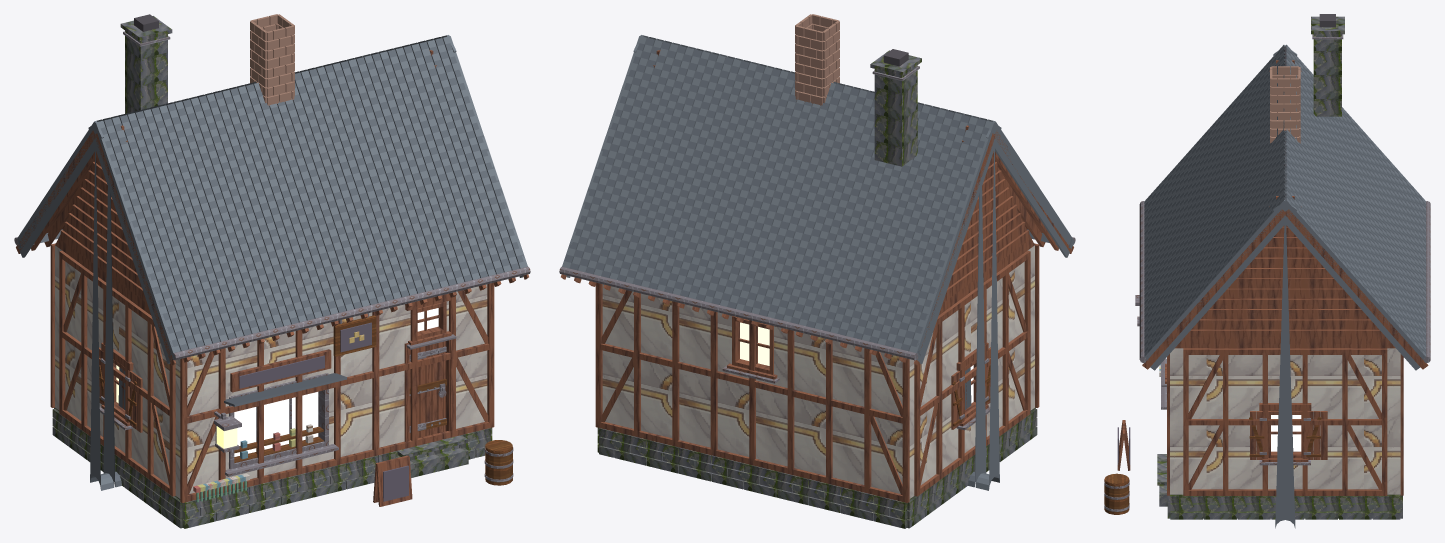
Rendered from juvelerare.glb.
3 views of the same model, side by side, from view 1: azimuth 30°, elevation 25°; view 2: azimuth 150°, elevation 25°; view 3: azimuth 270°, elevation 25° (orthographic). The views are drawn at different scales.
Parts seen in each view (by area): view 1: juvelerare_takpanna_ljus, juvelerare_takpanna_mörk, juvelerare_mörkt_virke, juvelerare_puts, juvelerare_sockel, juvelerare_järn, juvelerare_tegel, juvelerare_ljust_virke, juvelerare_mur, juvelerare_fönster, juvelerare_skyltfält, juvelerare_sten; view 2: juvelerare_takpanna_ljus, juvelerare_takpanna_mörk, juvelerare_puts, juvelerare_mörkt_virke, juvelerare_sockel, juvelerare_mur, juvelerare_järn, juvelerare_tegel, juvelerare_fönster; view 3: juvelerare_takpanna_ljus, juvelerare_mörkt_virke, juvelerare_takpanna_mörk, juvelerare_puts, juvelerare_sockel, juvelerare_järn, juvelerare_mur, juvelerare_tegel, juvelerare_ljust_virke, juvelerare_sten, juvelerare_fönster.
Part boxes in pixels (bbox=[...]): juvelerare_takpanna_ljus: bbox=[15, 35, 527, 490]; juvelerare_takpanna_mörk: bbox=[18, 37, 524, 487]; juvelerare_mörkt_virke: bbox=[16, 50, 528, 506]; juvelerare_puts: bbox=[55, 245, 487, 498]; juvelerare_sockel: bbox=[52, 407, 492, 528]; juvelerare_järn: bbox=[14, 31, 530, 482]; juvelerare_tegel: bbox=[250, 14, 294, 105]; juvelerare_ljust_virke: bbox=[99, 315, 512, 485]; juvelerare_mur: bbox=[125, 30, 167, 113]; juvelerare_fönster: bbox=[116, 308, 438, 456]; juvelerare_skyltfält: bbox=[239, 322, 408, 501]; juvelerare_sten: bbox=[120, 16, 468, 477]; juvelerare_takpanna_ljus: bbox=[562, 35, 1074, 490]; juvelerare_takpanna_mörk: bbox=[564, 37, 1071, 487]; juvelerare_puts: bbox=[602, 245, 1034, 498]; juvelerare_mörkt_virke: bbox=[561, 50, 1073, 502]; juvelerare_sockel: bbox=[597, 407, 1037, 528]; juvelerare_mur: bbox=[874, 65, 917, 166]; juvelerare_järn: bbox=[559, 66, 1075, 430]; juvelerare_tegel: bbox=[795, 14, 839, 105]; juvelerare_fönster: bbox=[740, 322, 973, 403]; juvelerare_takpanna_ljus: bbox=[1142, 44, 1428, 528]; juvelerare_mörkt_virke: bbox=[1117, 60, 1428, 495]; juvelerare_takpanna_mörk: bbox=[1144, 48, 1425, 520]; juvelerare_puts: bbox=[1159, 348, 1400, 494]; juvelerare_sockel: bbox=[1167, 494, 1402, 519]; juvelerare_järn: bbox=[1104, 34, 1430, 511]; juvelerare_mur: bbox=[1313, 34, 1341, 116]; juvelerare_tegel: bbox=[1270, 66, 1300, 143]; juvelerare_ljust_virke: bbox=[1104, 417, 1321, 514]; juvelerare_sten: bbox=[1157, 16, 1344, 506]; juvelerare_fönster: bbox=[1271, 415, 1301, 451].
Bounding box in the file's own units: 10.4 × 12.1 × 9.21.
18 materials, 11 textured.
